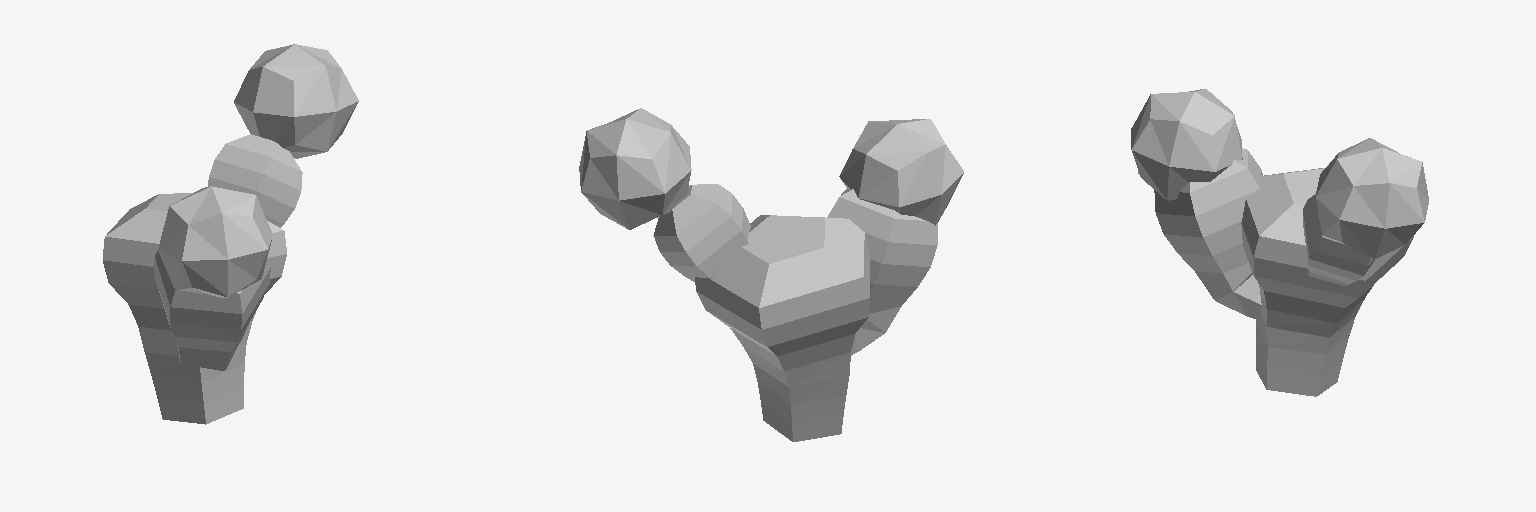
Rendered from cactus4.obj.
The picture shows the model from 3 angles: view 1: azimuth 30°, elevation 25°; view 2: azimuth 150°, elevation 25°; view 3: azimuth 270°, elevation 25°; orthographic projection.
Parts seen in each view (by area): view 1: main_cactus.004; view 2: main_cactus.004; view 3: main_cactus.004.
Part boxes in pixels (bbox=[...]): main_cactus.004: bbox=[103, 44, 358, 424]; main_cactus.004: bbox=[579, 108, 963, 441]; main_cactus.004: bbox=[1131, 89, 1428, 396].
Size of the model in its own units: 2.65 by 2.84 by 2.52.